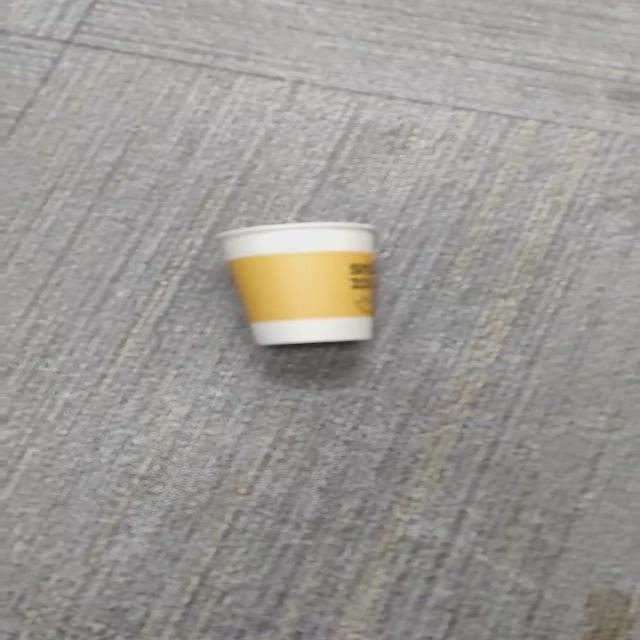dixie_cup: (220, 222, 375, 346)
